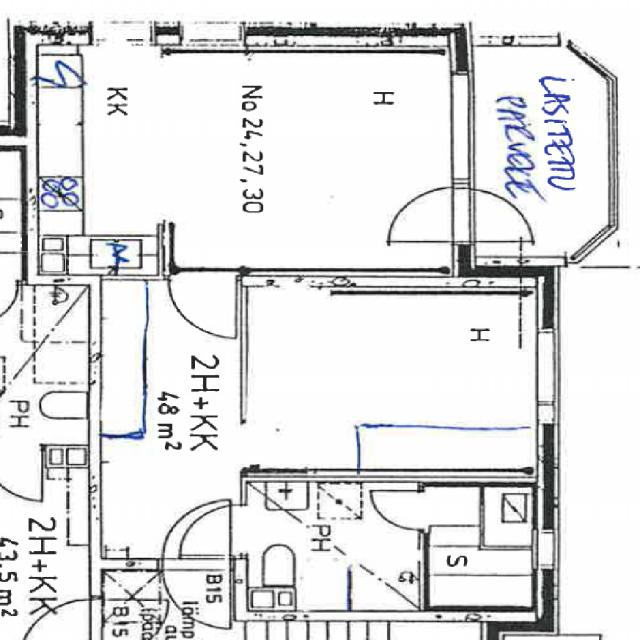door: (162, 500, 229, 570), (162, 558, 229, 628), (393, 190, 473, 240), (451, 190, 531, 240), (171, 276, 235, 336), (182, 504, 247, 555), (372, 491, 430, 532)
